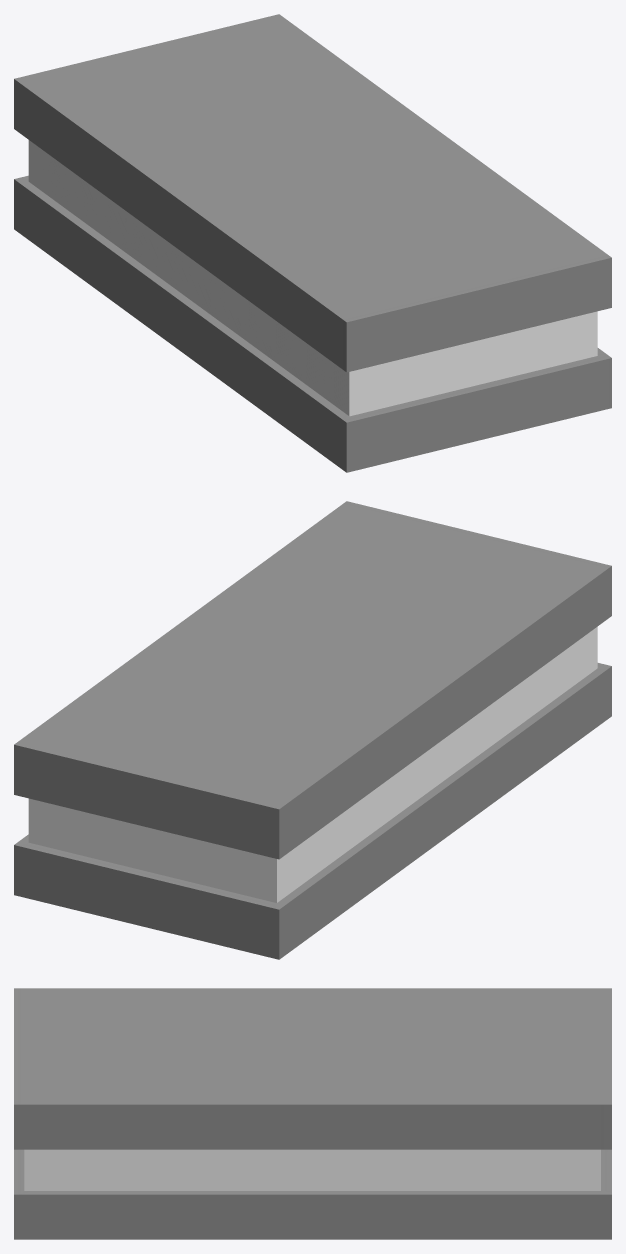
Rendered from OBCube.fbx.
The picture shows the model from 3 angles, top to bottom: view 1: azimuth 30°, elevation 25°; view 2: azimuth 150°, elevation 25°; view 3: azimuth 270°, elevation 25°; orthographic projection. The views are drawn at different scales.
Visible parts, largest first — view 1: OBCube; view 2: OBCube; view 3: OBCube.
Boxes of the visible parts, x1,y1,x2,y2 form: OBCube: (14,14,611,472); OBCube: (14,501,611,959); OBCube: (14,988,611,1239).
Bounding box in the file's own units: 7167 × 3299 × 1788.
